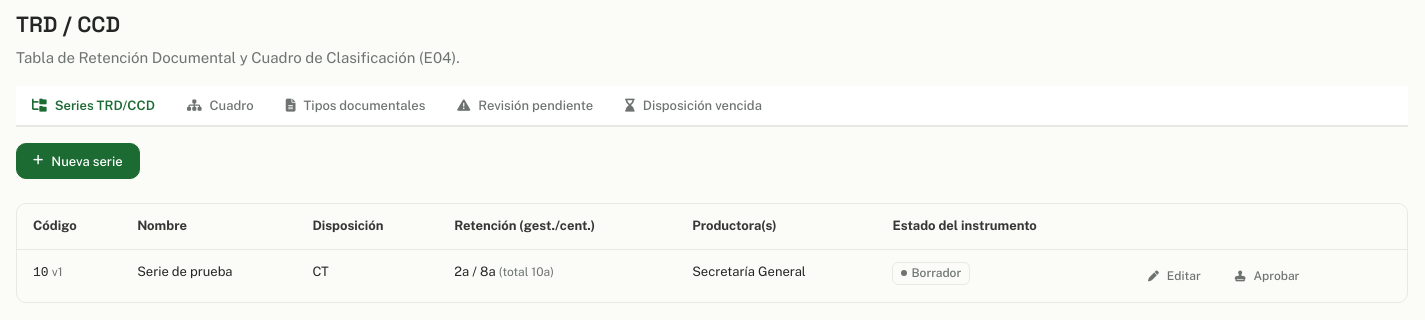
Scenario: /admin/trd — Revisión pendiente (ADR-025 D4/D6) › un fallo al cargar la cola no se muestra como 'nada pendiente'
What coordinates should you click on to do the following:
click the tab "Revisión pendiente"
I would click on:
 (525, 107)
Its box is 441,86 -> 609,127.
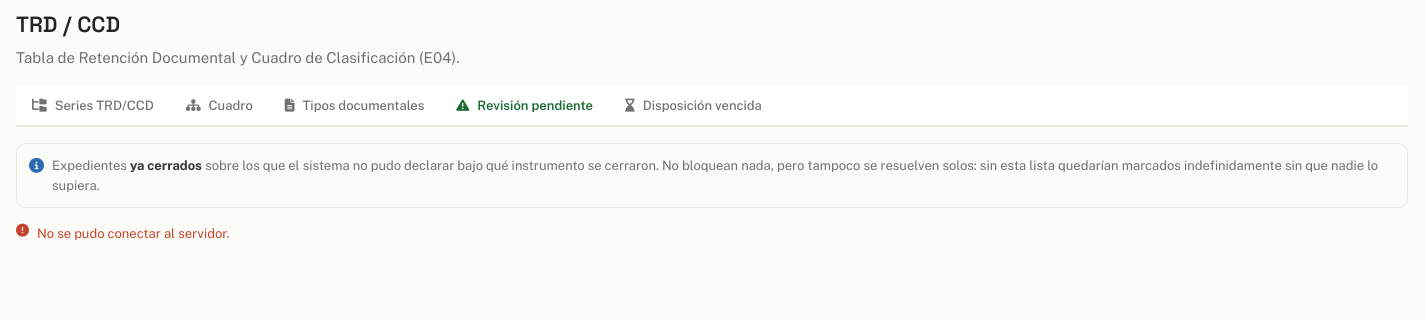
Check: the message reads "No se pudo conectar al servidor.", box 37,226 -> 229,241
